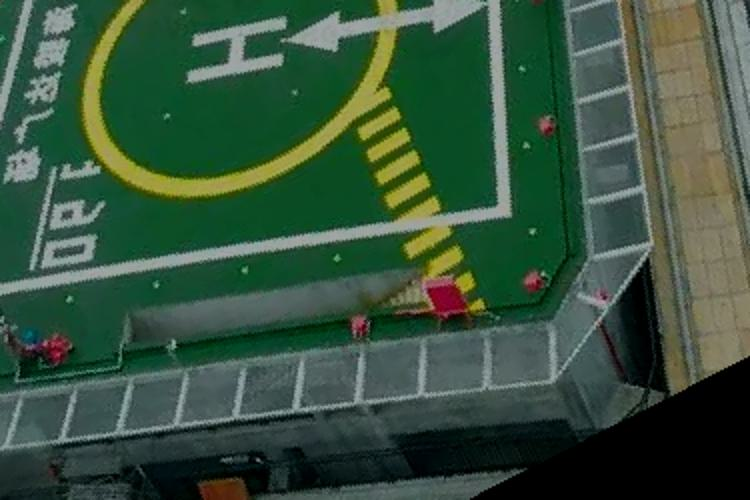Apron: (77, 1, 401, 202)
